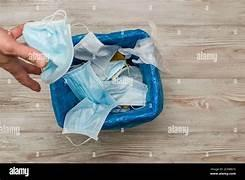Mask: (63, 61, 116, 139), (23, 10, 73, 83), (74, 32, 118, 79), (103, 76, 147, 105), (119, 38, 158, 66), (104, 60, 125, 79), (120, 66, 142, 81)
